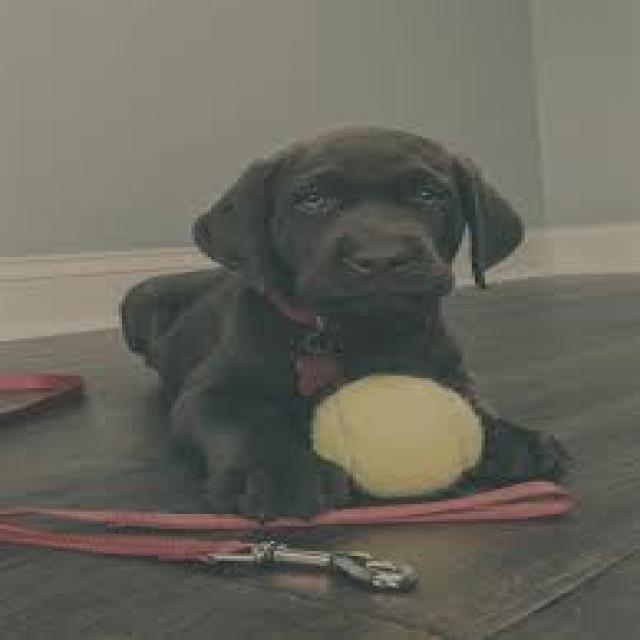Tennis-Ball: (308, 366, 492, 504)
